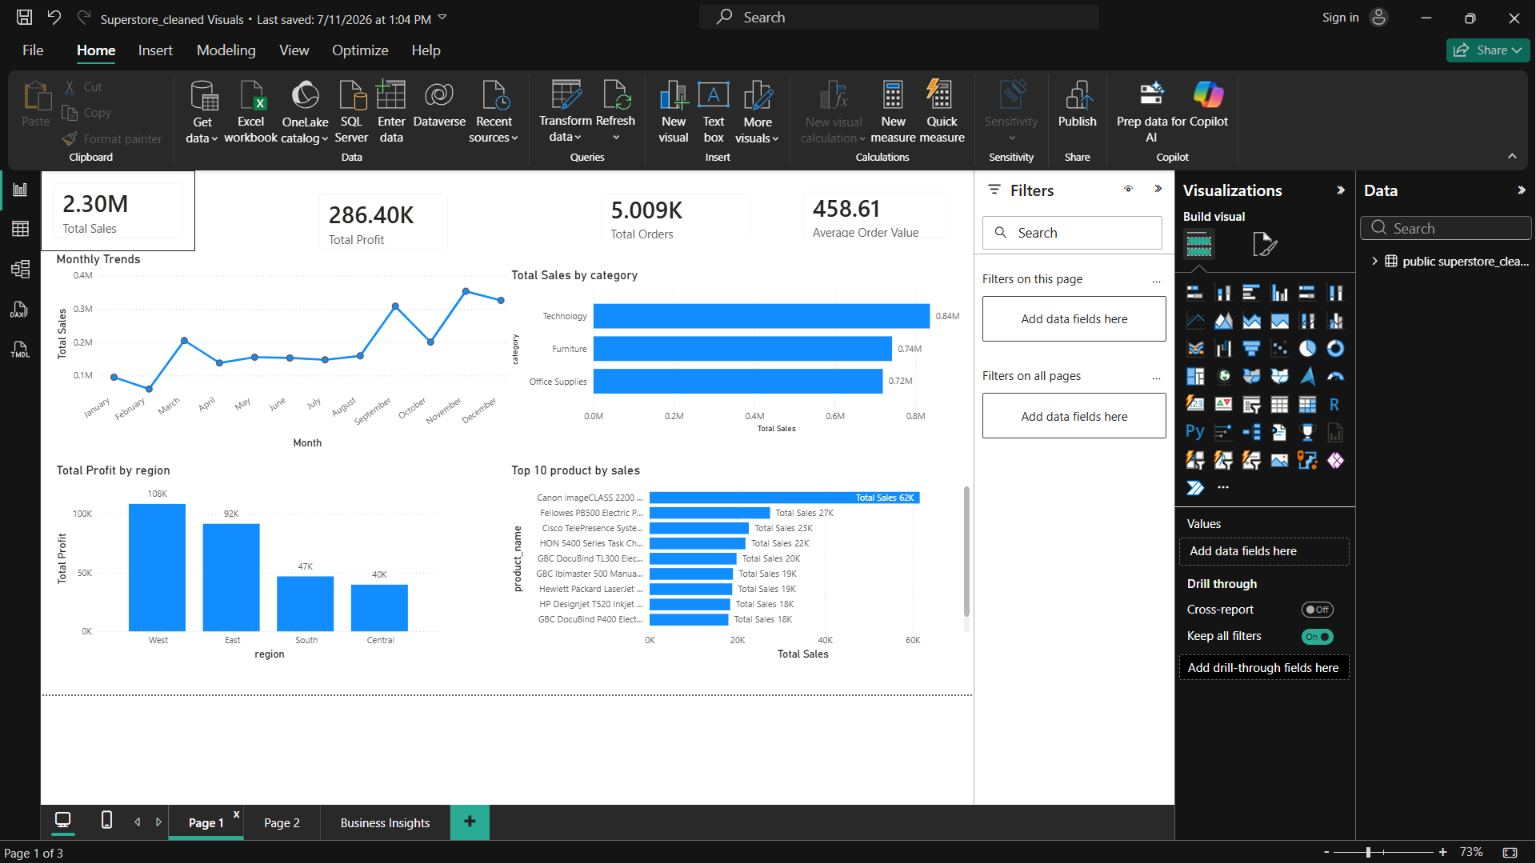

The dashboard page shown, as its layout file describes it:
{"tool":"powerbi","page":{"name":"Page 1","canvas":[1280,720],"ordinal":0},"visuals":[{"type":"cardVisual","fields":{"Data":["public superstore_cleaned.Total Sales"]},"box":[0,0,211.3,111.1],"z":0},{"type":"cardVisual","fields":{"Data":["public superstore_cleaned.Total Profit"]},"box":[365,15.1,211.3,111.1],"z":1},{"type":"cardVisual","fields":{"Data":["public superstore_cleaned.Total Orders"]},"box":[752,15.1,240.1,96.1],"z":2},{"type":"cardVisual","fields":{"Data":["public superstore_cleaned.Average Order Value"]},"box":[1029.2,12.3,236,98.8],"z":3},{"type":"lineChart","title":"Monthly Trends","fields":{"Category":["public superstore_cleaned.order_date.Variation.Date Hierarchy.Month"],"Y":["public superstore_cleaned.Total Sales"]},"box":[16.5,111.1,639.5,275.8],"z":4},{"type":"clusteredBarChart","fields":{"Category":["public superstore_cleaned.category"],"Y":["public superstore_cleaned.Total Sales"]},"box":[640.8,133.1,639.5,231.9],"z":5},{"type":"clusteredColumnChart","fields":{"Category":["public superstore_cleaned.region"],"Y":["public superstore_cleaned.Total Profit"]},"box":[16.5,400.7,536.5,275.8],"z":6},{"type":"clusteredBarChart","title":"Top 10 product by sales ","fields":{"Y":["public superstore_cleaned.Total Sales"],"Category":["public superstore_cleaned.product_name"]},"box":[641,401,639,276],"z":7}]}

Visuals, with their boxes on the page's 1280x720 design canvas (x1, y1, x2, y2). These are canvas units, not pixel positions in the 1536x863 screenshot, which may show the page scaled, cropped or inside an application window:
cardVisual - public superstore_cleaned.Total Sales: rect(0, 0, 211, 111)
cardVisual - public superstore_cleaned.Total Profit: rect(365, 15, 576, 126)
cardVisual - public superstore_cleaned.Total Orders: rect(752, 15, 992, 111)
cardVisual - public superstore_cleaned.Average Order Value: rect(1029, 12, 1265, 111)
"Monthly Trends" lineChart: rect(16, 111, 656, 387)
clusteredBarChart - public superstore_cleaned.category x public superstore_cleaned.Total Sales: rect(641, 133, 1280, 365)
clusteredColumnChart - public superstore_cleaned.region x public superstore_cleaned.Total Profit: rect(16, 401, 553, 676)
"Top 10 product by sales " clusteredBarChart: rect(641, 401, 1280, 677)
